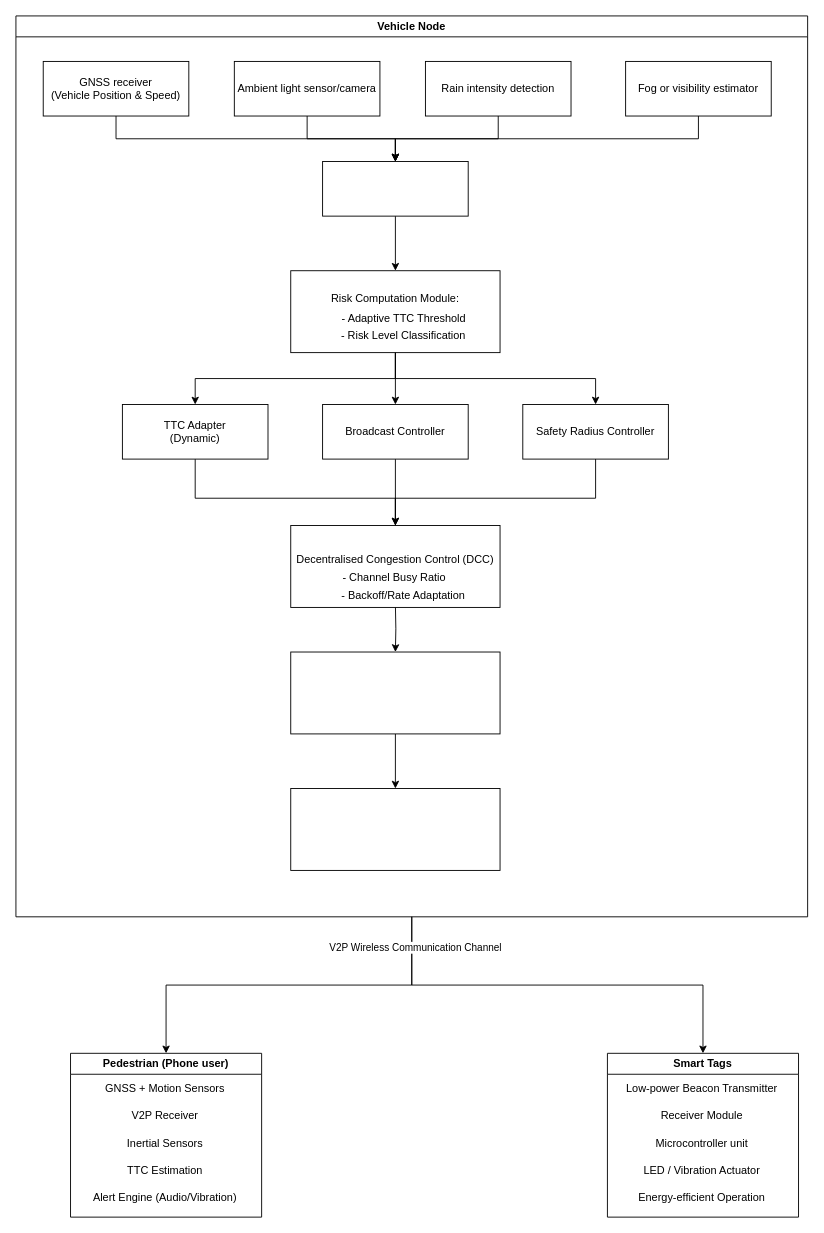
Some shapes in this 824 by 1233 pixel diagram are drawn without their labels. Here are the shapes that lost their labels. From the top down, the centre of each, then its label:
[395,188]: Visibility Index Computation
[395,692]: V2X Communication Unit (DSRC/C-V2X)
[395,829]: Drier Alert Interface (Audio / Visual Warning)
